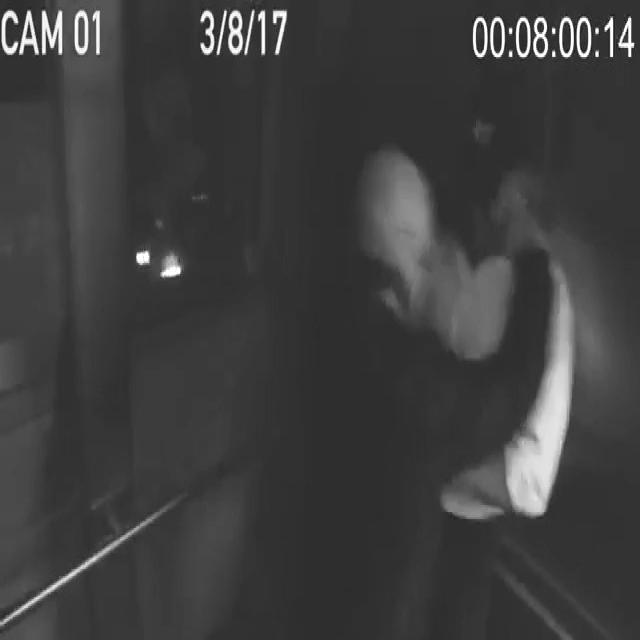fight: (337, 119, 576, 588)
